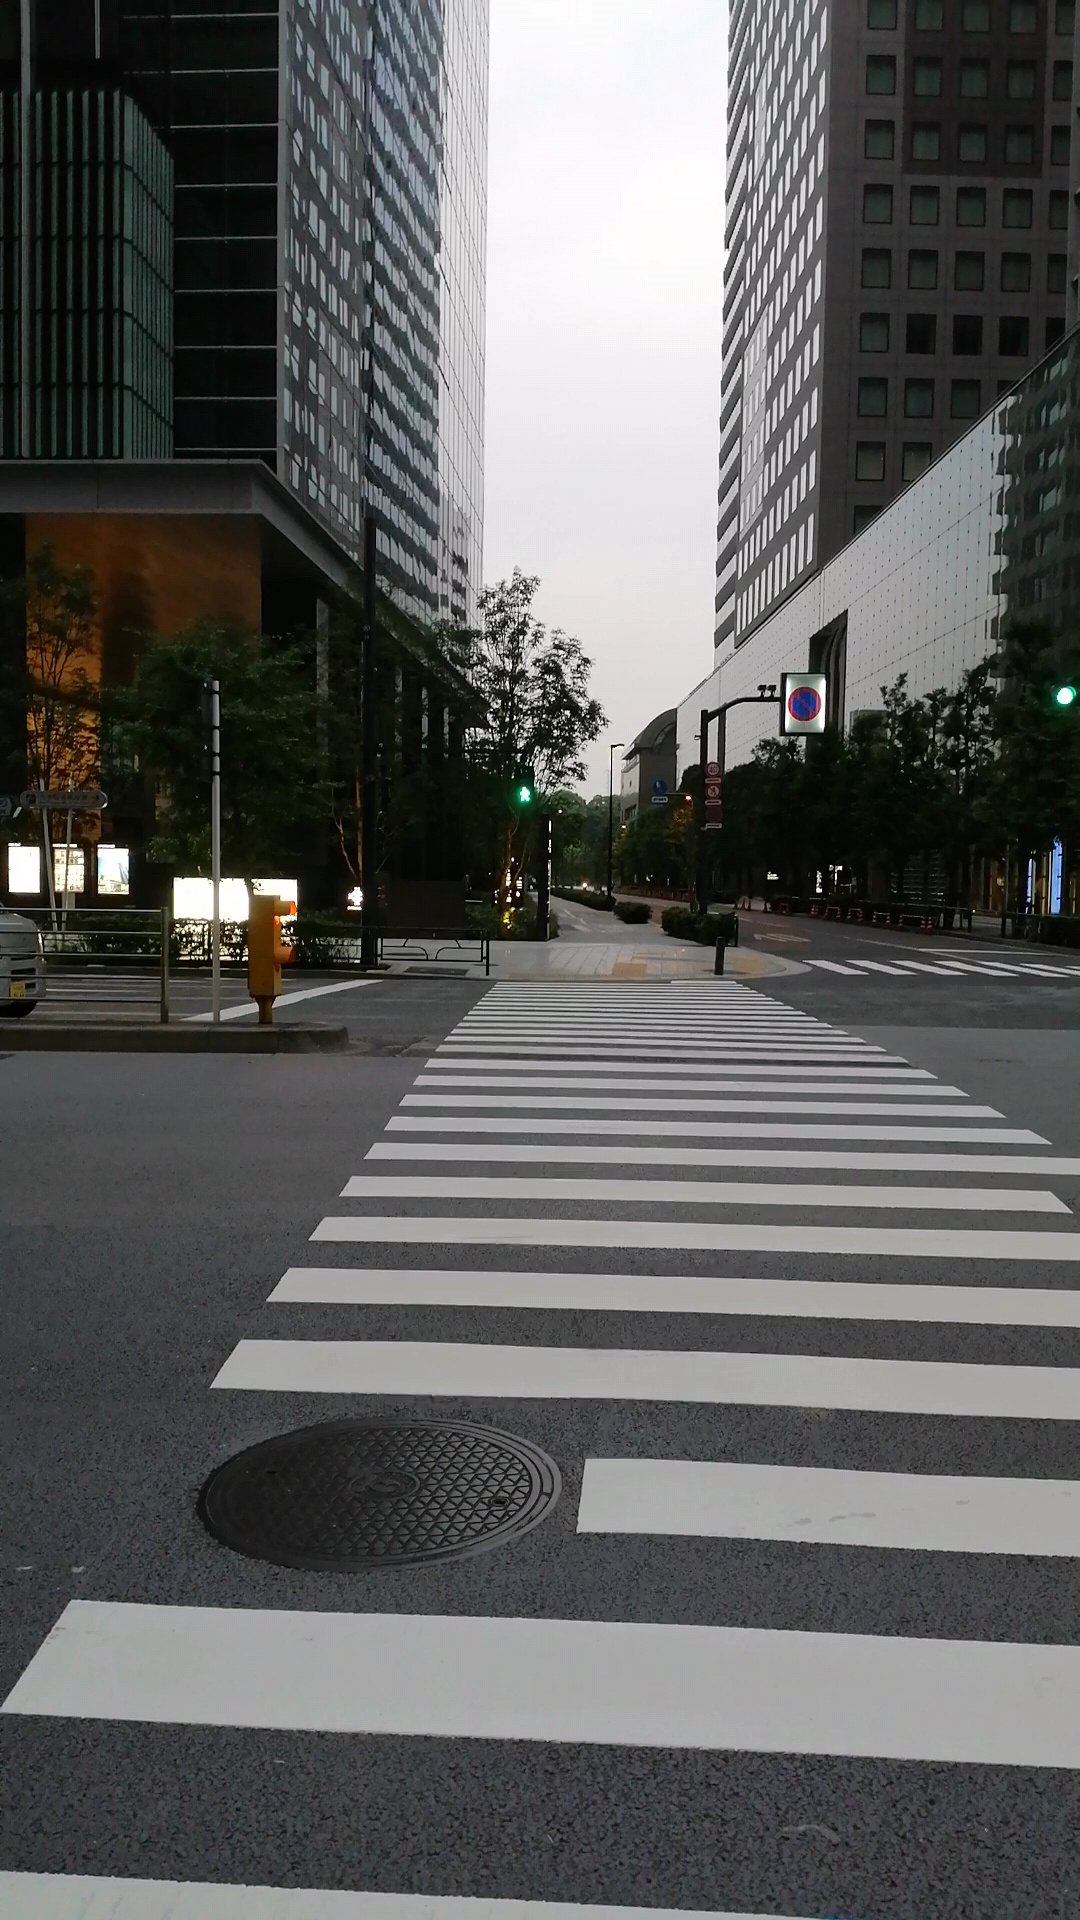green: (512, 764, 534, 808)
